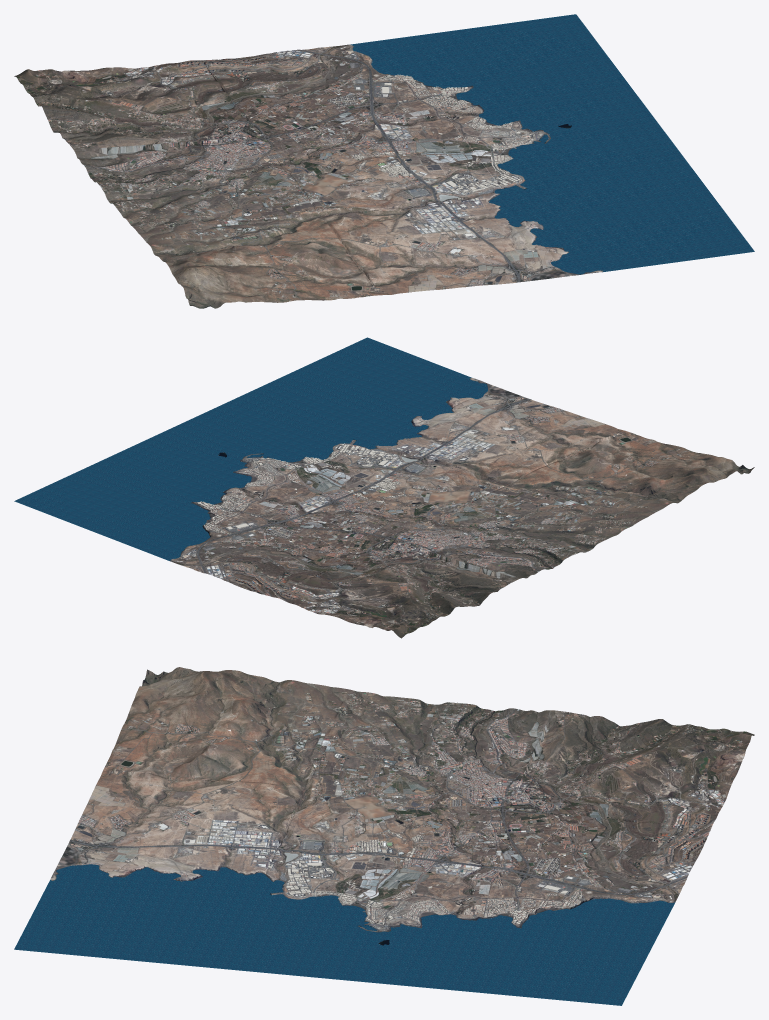
The model's file is entorno.glb.
The picture shows the model from 3 angles, top to bottom: view 1: azimuth 30°, elevation 25°; view 2: azimuth 150°, elevation 25°; view 3: azimuth 270°, elevation 25°; orthographic projection. The views are drawn at different scales.
Visible parts, largest first — view 1: Geom3D (×11); view 2: Geom3D (×11); view 3: Geom3D (×11).
Part boxes in pixels (left/top/right/bottom): Geom3D (×11): left=14, top=14, right=754, bottom=308; Geom3D (×11): left=14, top=337, right=754, bottom=638; Geom3D (×11): left=14, top=667, right=754, bottom=1005.
Bounding box in the file's own units: 10718 × 561 × 10718.
Materials: 91 (18 with a texture image).
